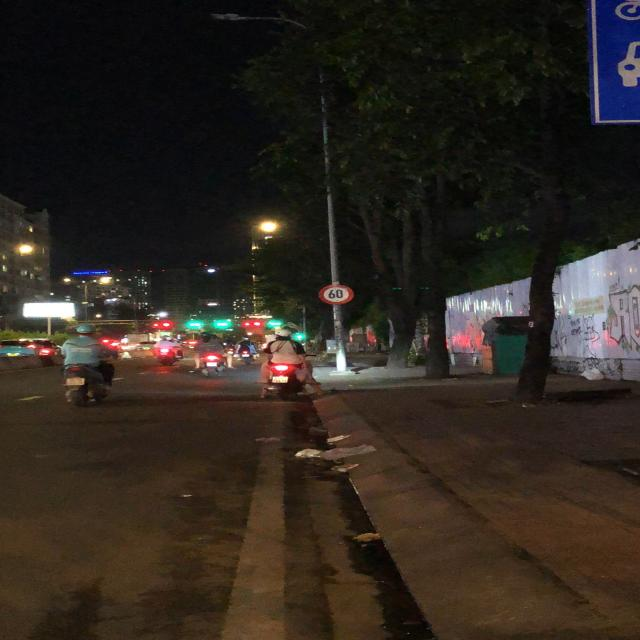Bien bao toc do toi da cho phep: (318, 284, 356, 304)
